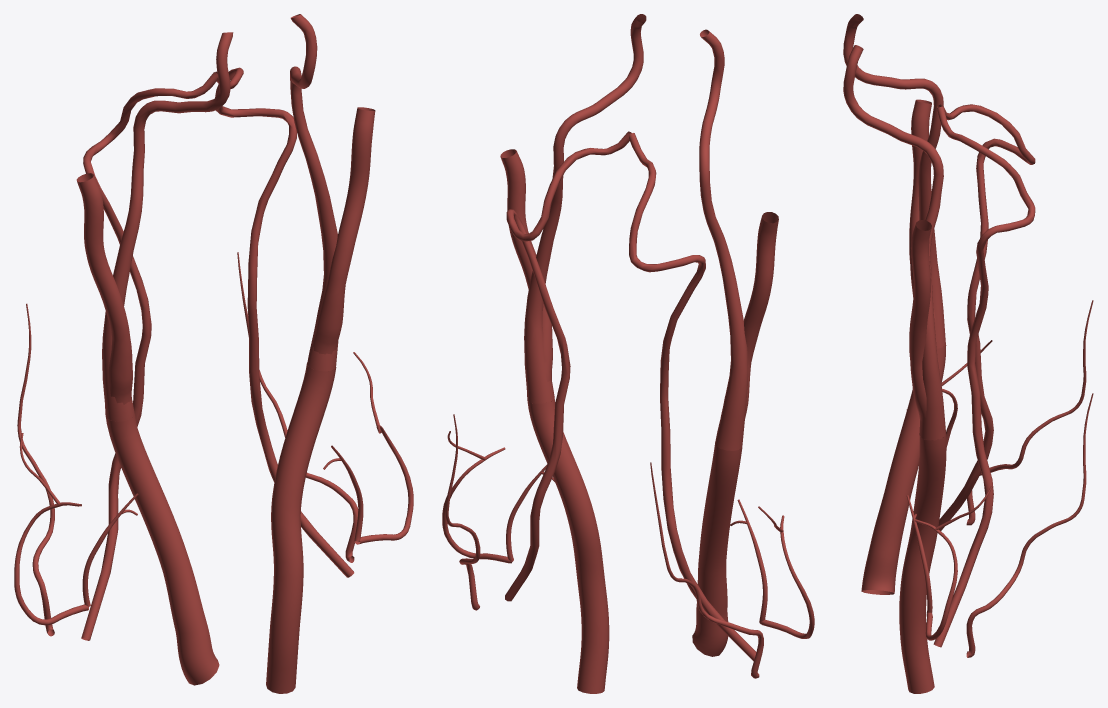
Rendered from arterial-neck-mobile.glb.
3 renders of one model, left to right at view 1: azimuth 30°, elevation 25°; view 2: azimuth 150°, elevation 25°; view 3: azimuth 270°, elevation 25°, orthographic. The views are drawn at different scales.
Parts seen in each view (by area): view 1: za.left-common-carotid-artery, za.right-common-carotid-artery, za.internal-carotid-artery-r, za.vertebral-artery-r, za.vertebral-artery-l, za.external-carotid-artery-l, za.external-carotid-artery-r, za.internal-carotid-artery-l, za.deep-cervical-artery-r, za.transverse-cervical-artery-r, za.deep-cervical-artery-l, za.transverse-cervical-artery-l (+1 smaller); view 2: za.left-common-carotid-artery, za.internal-carotid-artery-r, za.internal-carotid-artery-l, za.right-common-carotid-artery, za.vertebral-artery-r, za.vertebral-artery-l, za.external-carotid-artery-r, za.external-carotid-artery-l, za.deep-cervical-artery-r, za.transverse-cervical-artery-l, za.deep-cervical-artery-l, za.transverse-cervical-artery-r (+1 smaller); view 3: za.left-common-carotid-artery, za.right-common-carotid-artery, za.vertebral-artery-l, za.internal-carotid-artery-l, za.vertebral-artery-r, za.internal-carotid-artery-r, za.external-carotid-artery-l, za.external-carotid-artery-r, za.deep-cervical-artery-l, za.deep-cervical-artery-r, za.transverse-cervical-artery-l, za.inferior-thyroid-artery-l (+1 smaller).
Part boxes in pixels (x1,y1,x2,y2): za.left-common-carotid-artery: (266,363,336,693); za.right-common-carotid-artery: (105,414,219,685); za.internal-carotid-artery-r: (102,32,233,421); za.vertebral-artery-r: (81,72,217,640); za.vertebral-artery-l: (214,67,354,577); za.external-carotid-artery-l: (311,107,375,354); za.external-carotid-artery-r: (76,173,132,404); za.internal-carotid-artery-l: (290,14,338,371); za.deep-cervical-artery-r: (17,303,54,636); za.transverse-cervical-artery-r: (14,433,88,625); za.deep-cervical-artery-l: (237,252,358,562); za.transverse-cervical-artery-l: (353,352,413,544); za.left-common-carotid-artery: (527,398,609,693); za.internal-carotid-artery-r: (699,29,748,450); za.internal-carotid-artery-l: (524,14,646,403); za.right-common-carotid-artery: (692,443,742,656); za.vertebral-artery-r: (629,133,756,661); za.vertebral-artery-l: (505,131,631,601); za.external-carotid-artery-r: (721,212,778,418); za.external-carotid-artery-l: (500,149,552,382); za.deep-cervical-artery-r: (650,462,763,678); za.transverse-cervical-artery-l: (442,431,511,563); za.deep-cervical-artery-l: (445,414,480,610); za.transverse-cervical-artery-r: (758,506,814,638); za.left-common-carotid-artery: (899,433,946,693); za.right-common-carotid-artery: (861,345,946,594); za.vertebral-artery-l: (933,106,1035,647); za.internal-carotid-artery-l: (843,45,945,440); za.vertebral-artery-r: (937,104,1035,530); za.internal-carotid-artery-r: (843,14,945,348); za.external-carotid-artery-l: (909,220,931,421); za.external-carotid-artery-r: (909,99,935,329); za.deep-cervical-artery-l: (966,393,1093,657); za.deep-cervical-artery-r: (966,300,1093,525); za.transverse-cervical-artery-l: (914,486,992,640); za.inferior-thyroid-artery-l: (906,495,932,612).
Size of the model in its own units: 0.1235 by 0.2087 by 0.0744.
